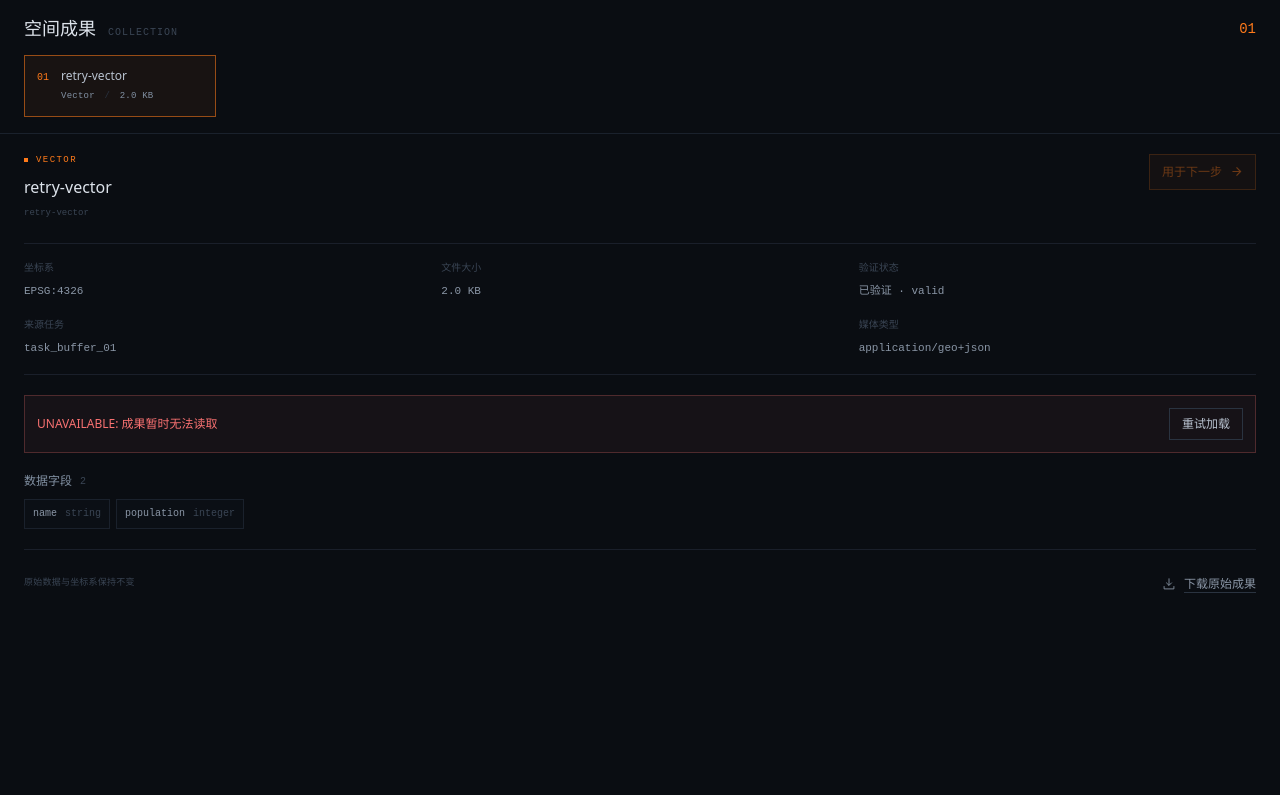
ArtifactWorkspace › lets the user retry a failed content read without losing access to the artifact
This screenshot has width=1280, height=795.
Expected: the text "UNAVAILABLE: 成果暂时无法读取" is shown, [37, 412, 218, 436]
Expected: the link "下载原始成果" is shown, [1162, 575, 1256, 592]
Click the button "重试加载": (1206,424) [1169, 408, 1243, 440]
(page scrolled)
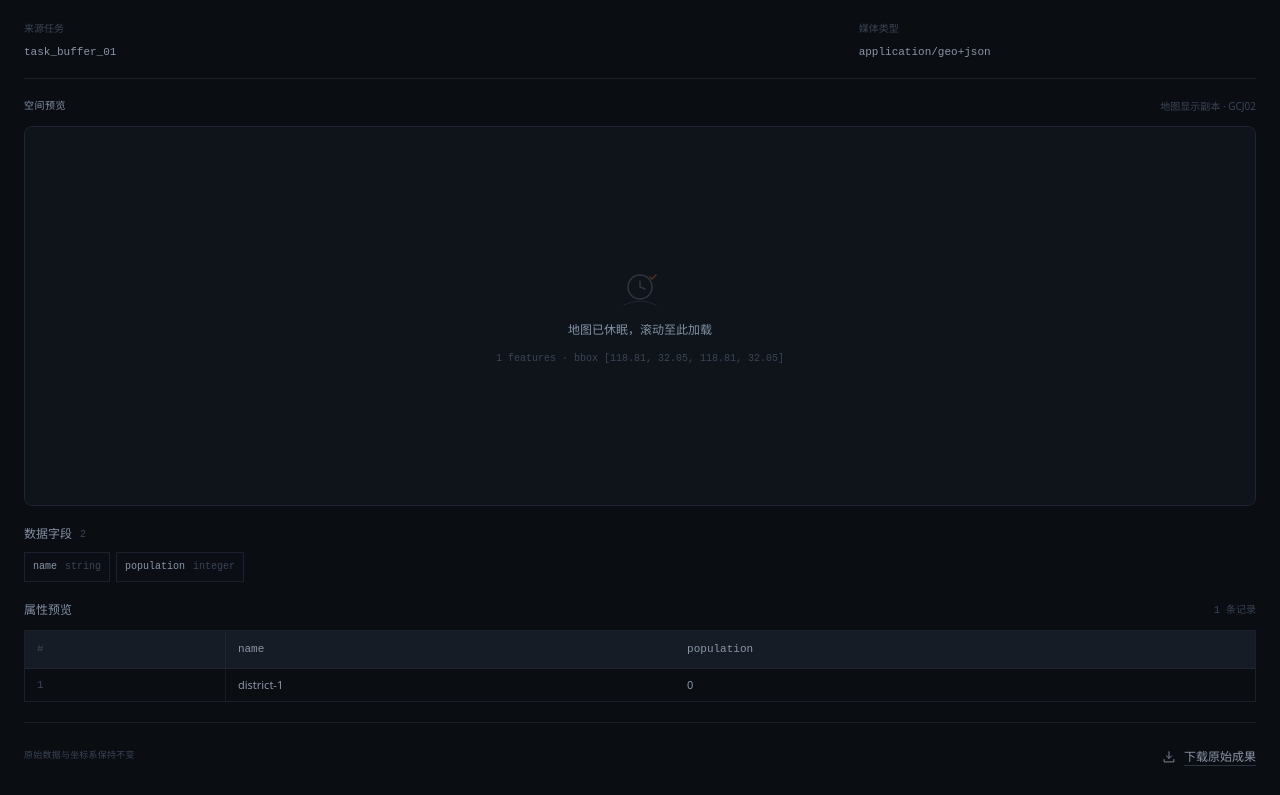
Expected: the text "district-1" is shown, [225, 668, 675, 701]
Expected: the text "成果暂时无法读取" is gone
